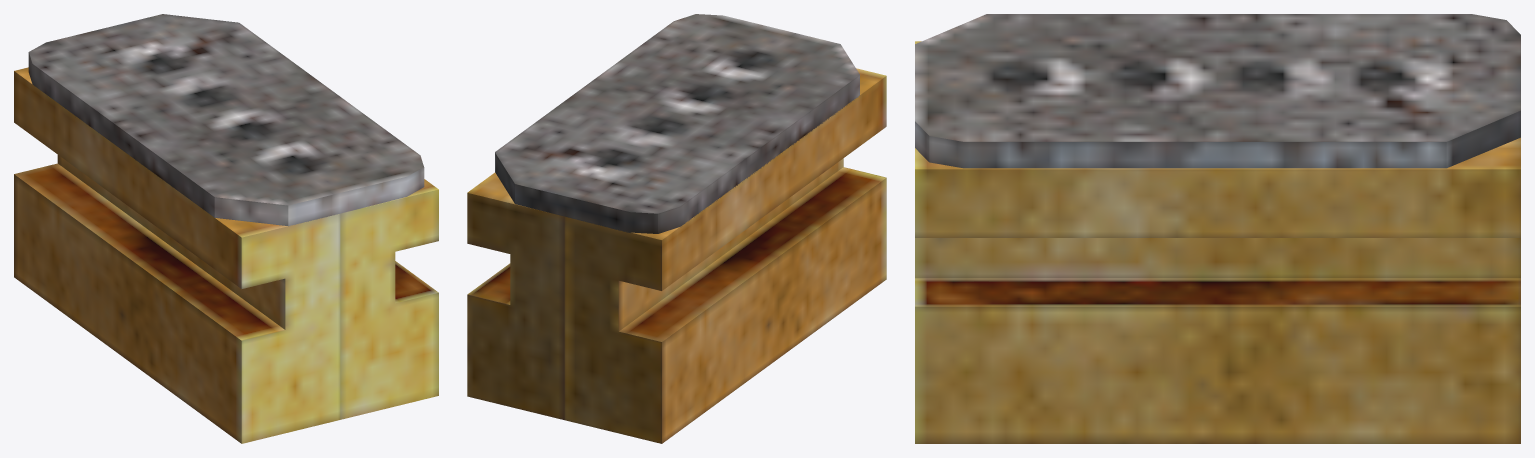
File: mold.fbx
3 views of the same model, side by side, from view 1: azimuth 30°, elevation 25°; view 2: azimuth 150°, elevation 25°; view 3: azimuth 270°, elevation 25° (orthographic). The views are drawn at different scales.
Visible parts, largest first — view 1: Mould_LP.003; view 2: Mould_LP.003; view 3: Mould_LP.003.
Boxes of the visible parts, x1,y1,x2,y2 form: Mould_LP.003: [14, 14, 438, 443]; Mould_LP.003: [467, 14, 886, 443]; Mould_LP.003: [915, 14, 1520, 443].
Bounding box in the file's own units: 0.02 × 0.04 × 0.022.
